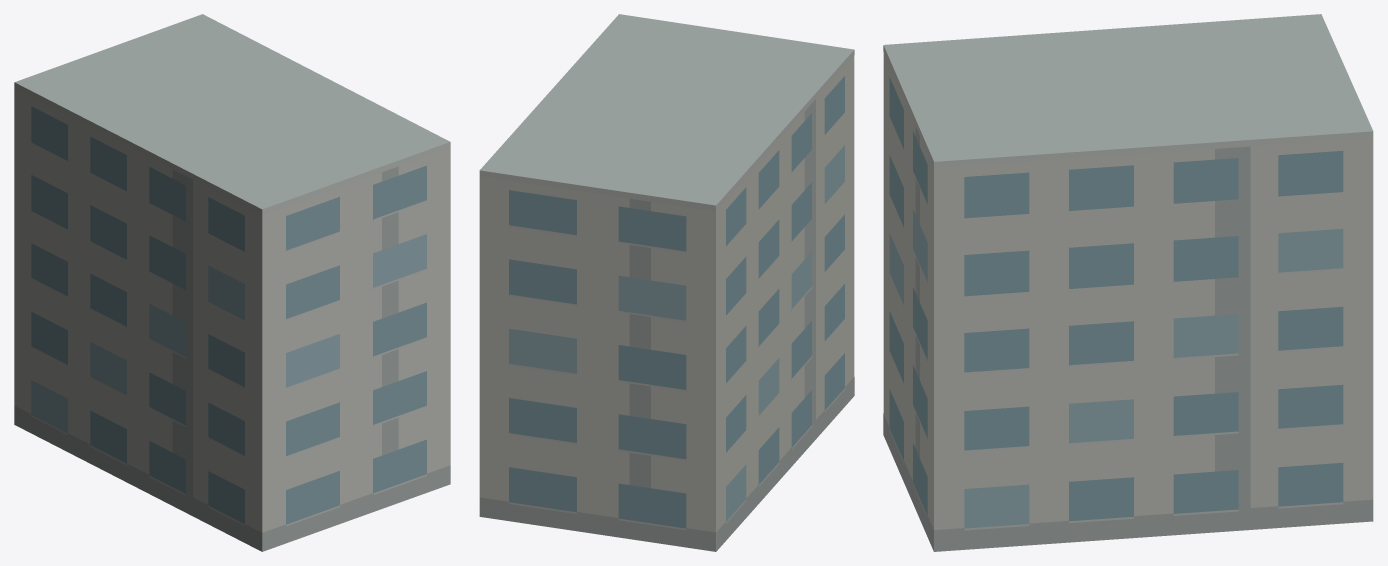
Rendered from survey-upis-32849490.glb.
3 views of the same model, side by side, from view 1: azimuth 30°, elevation 25°; view 2: azimuth 150°, elevation 25°; view 3: azimuth 270°, elevation 25° (orthographic). The views are drawn at different scales.
Parts seen in each view (by area): view 1: survey-upis-32849490.tmp; view 2: survey-upis-32849490.tmp; view 3: survey-upis-32849490.tmp.
Part boxes in pixels (box(x1,y1,x2,y2)): survey-upis-32849490.tmp: box(14, 14, 450, 551); survey-upis-32849490.tmp: box(479, 14, 854, 551); survey-upis-32849490.tmp: box(883, 14, 1373, 551).
Bounding box in the file's own units: 11.63 × 14.3 × 16.29.
